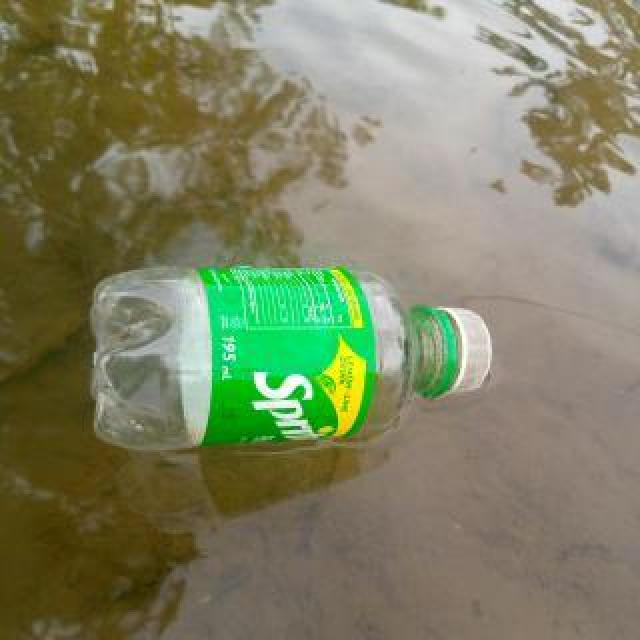bottle: (88, 263, 490, 453)
